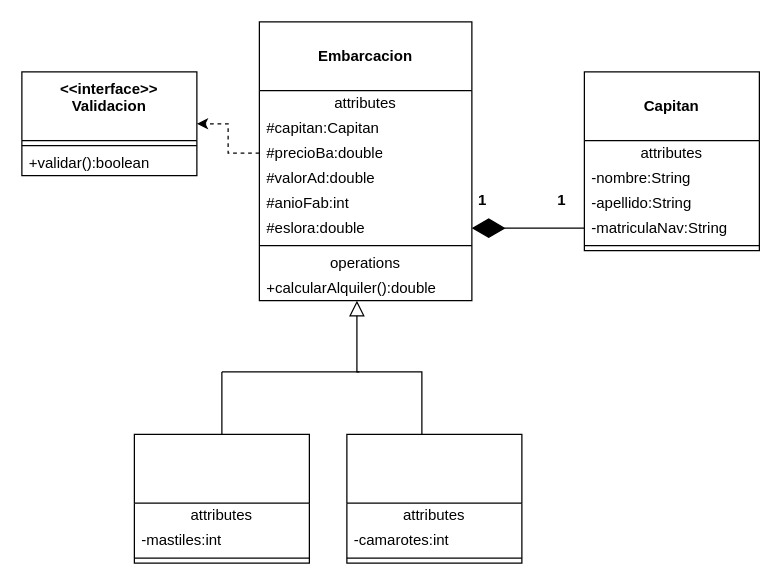
The diagram is 781 pixels wide and 585 high, and some of its shapes have lost their labels. Here are the shapes that lost their labels. From the top down, the box of each, then its label:
(133, 433, 309, 563): Velero
(346, 433, 522, 563): Yate
